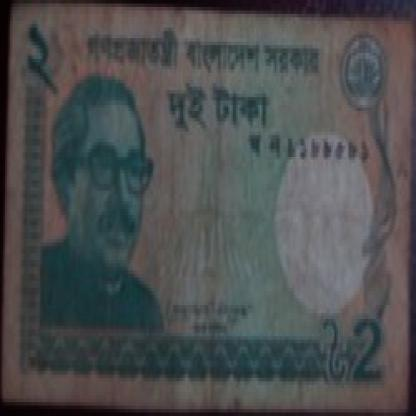two taka: (25, 17, 78, 108), (336, 309, 390, 388)
